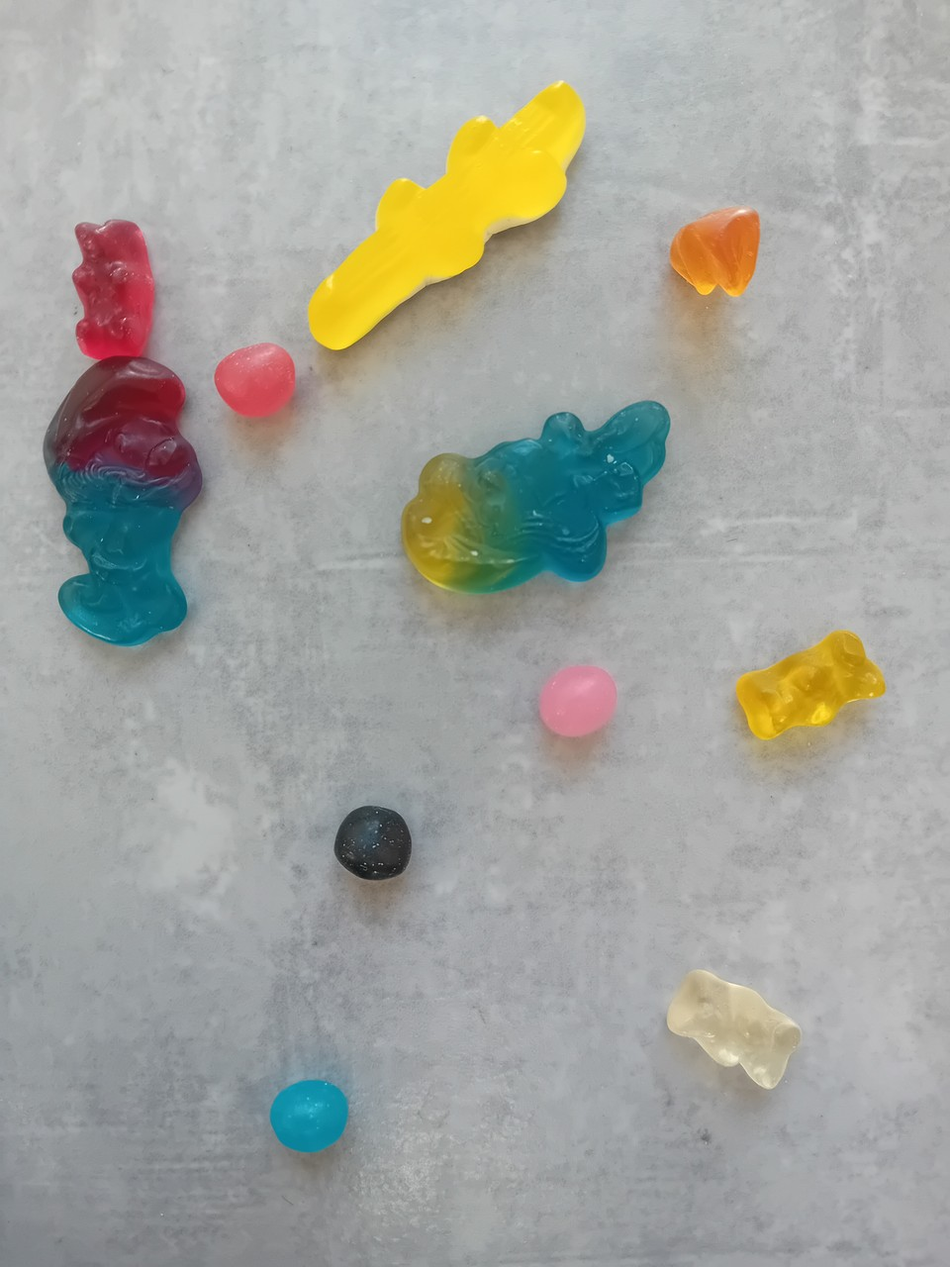crocodile_jaune: (300, 76, 603, 362)
dragibus_bleu: (263, 1073, 356, 1157)
dragibus_noir: (331, 801, 417, 889)
dragibus_rose: (536, 659, 621, 749)
dragibus_rouge: (212, 340, 297, 423)
ourson_blanc: (655, 961, 810, 1098)
ourson_jaune: (730, 626, 891, 752)
ourson_orangeClair: (659, 202, 772, 310)
ourson_rouge: (59, 209, 162, 360)
schtroumpf_bleu-jaune: (396, 394, 684, 601)
schtroumpf_bleu-rouge: (43, 351, 205, 651)
